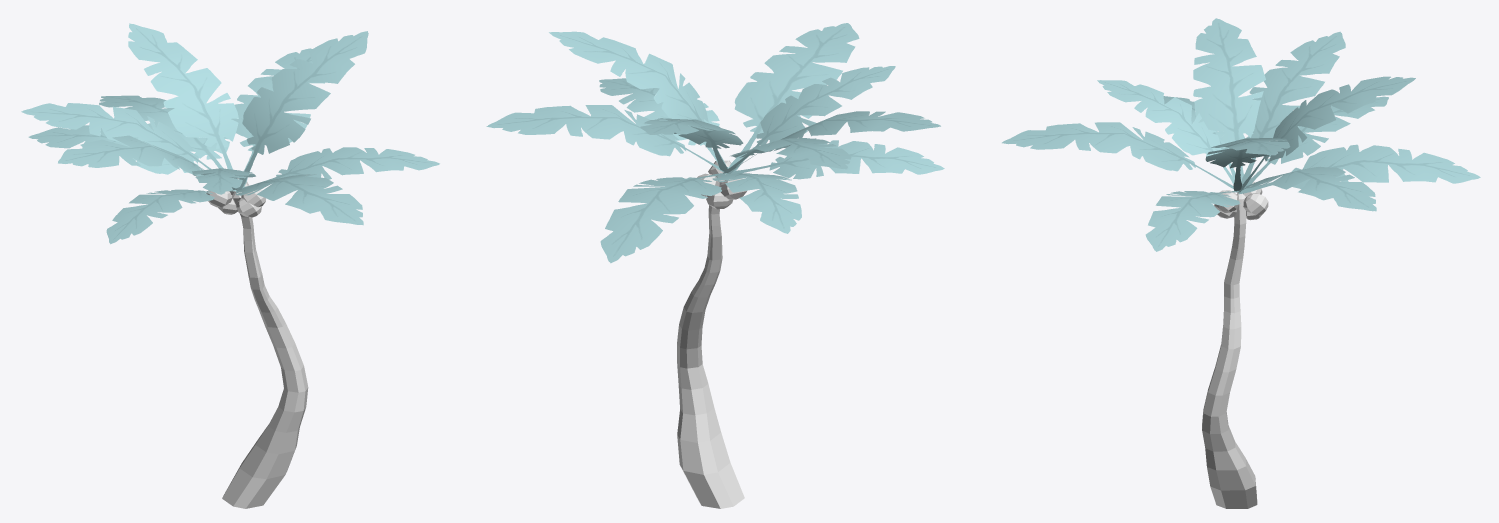
The model's file is M.coconut_tree-v4-1.fbx.
3 views of the same model, side by side, from view 1: azimuth 30°, elevation 25°; view 2: azimuth 150°, elevation 25°; view 3: azimuth 270°, elevation 25° (orthographic). The views are drawn at different scales.
Visible parts, largest first — view 1: palmtree_04.002; view 2: palmtree_04.002; view 3: palmtree_04.002.
Boxes of the visible parts, x1,y1,x2,y2 form: palmtree_04.002: (21,23,439,508); palmtree_04.002: (486,23,944,508); palmtree_04.002: (1002,18,1480,508).
Size of the model in its own units: 716 by 763 by 818.
